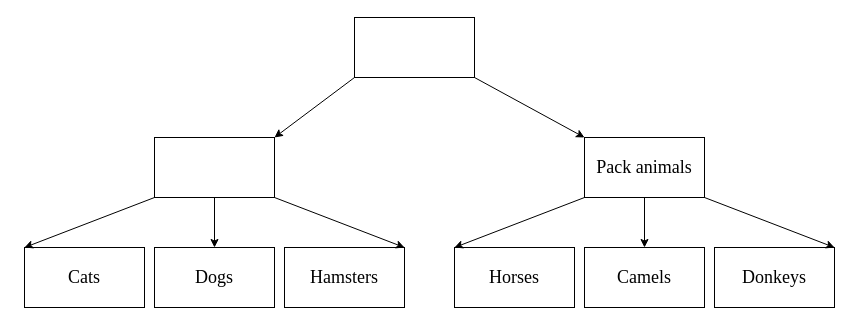
Some shapes in this 860 by 325 pixel diagram are drawn without their labels. The shapes that lost their labels are listed below. From the top down, each one's centre as x and y in pixels, then its label:
the point at 414,47: Human friends
the point at 214,167: Domestic animals
